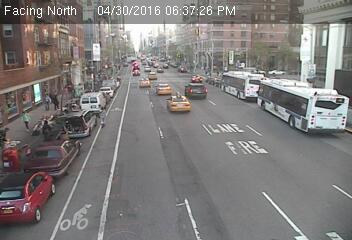neg: (217, 37, 245, 75), (238, 166, 263, 200), (117, 188, 139, 217), (90, 134, 111, 163), (183, 57, 203, 83), (158, 192, 178, 218), (177, 144, 196, 169), (269, 79, 287, 103), (288, 142, 306, 166), (221, 126, 239, 149), (70, 203, 88, 226), (164, 83, 181, 107), (242, 99, 258, 120), (129, 70, 144, 90), (130, 127, 143, 145), (285, 49, 296, 62), (103, 73, 113, 87)
pos: (17, 110, 32, 129), (39, 95, 51, 110), (50, 93, 61, 107)
